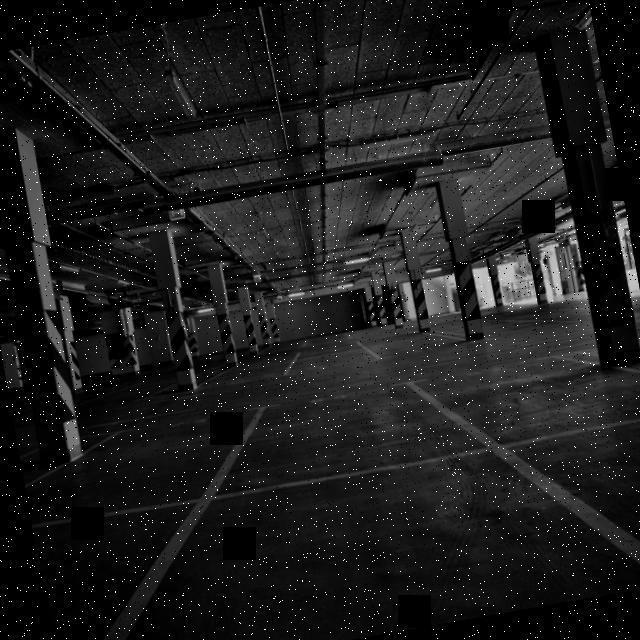free: (100, 442, 640, 640), (195, 375, 504, 505), (25, 405, 265, 528), (406, 348, 640, 451), (483, 413, 640, 564)
